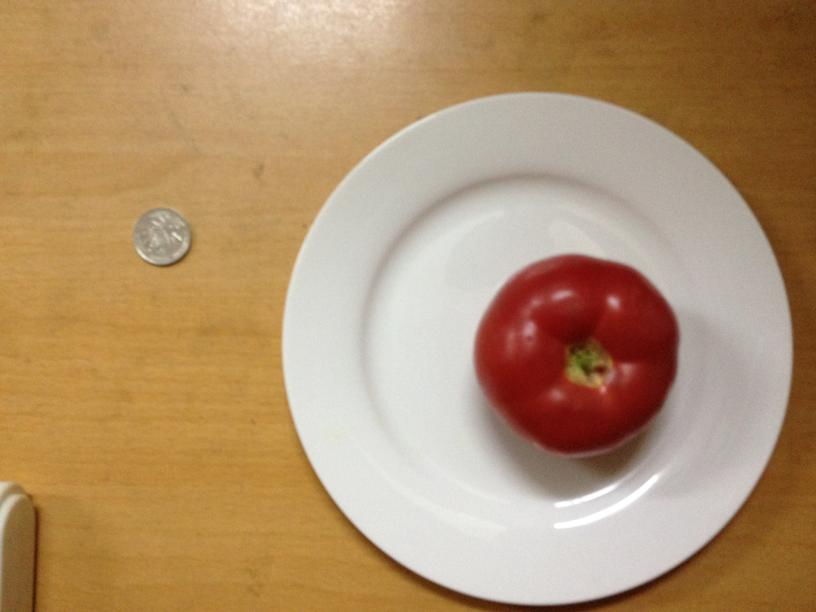coin: (126, 207, 194, 266)
tomato: (467, 248, 680, 458)
